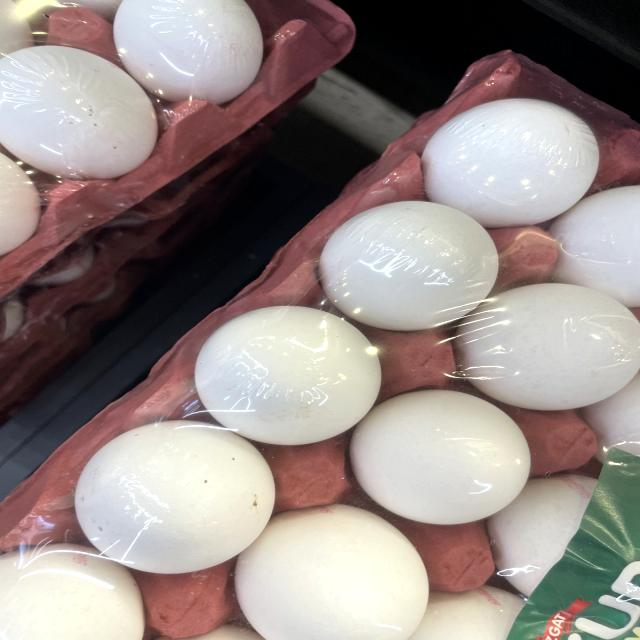egg: (56, 415, 288, 578), (178, 297, 398, 453), (332, 380, 537, 526), (226, 501, 438, 640), (409, 90, 611, 232), (315, 191, 505, 338), (456, 269, 640, 412), (0, 44, 163, 187), (101, 0, 272, 108)
